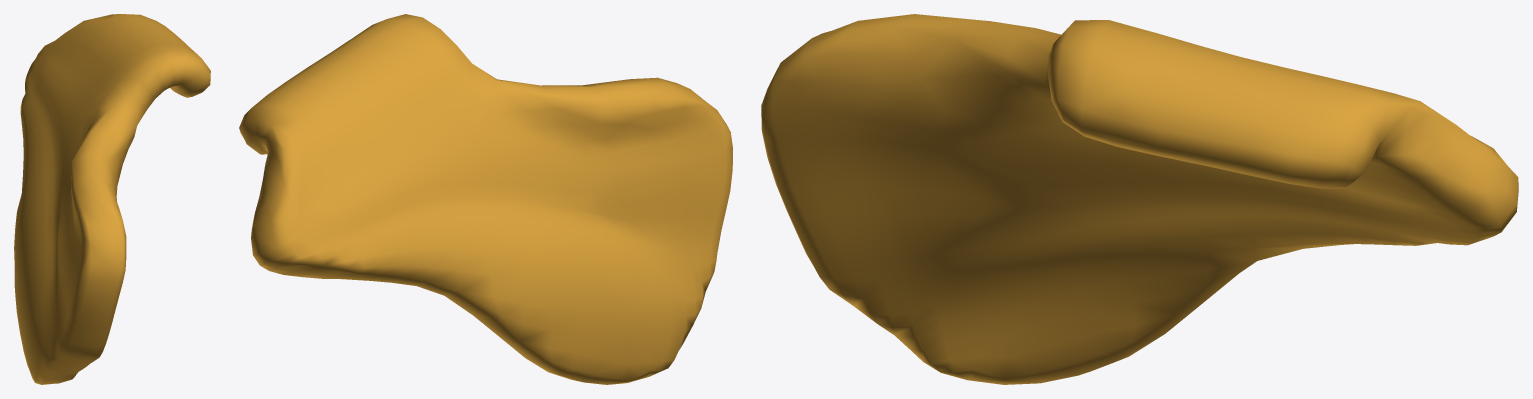
3 renders of one model, left to right at view 1: azimuth 30°, elevation 25°; view 2: azimuth 150°, elevation 25°; view 3: azimuth 270°, elevation 25°, orthographic. The views are drawn at different scales.
Visible parts, largest first — view 1: 右侧腮腺; view 2: 右侧腮腺; view 3: 右侧腮腺.
Boxes of the visible parts, box(x1,y1,x2,y2) form: 右侧腮腺: box(14, 14, 210, 384); 右侧腮腺: box(239, 14, 732, 384); 右侧腮腺: box(761, 14, 1518, 384).
Bounding box in the file's own units: 0.0462 × 0.0487 × 0.0702.
